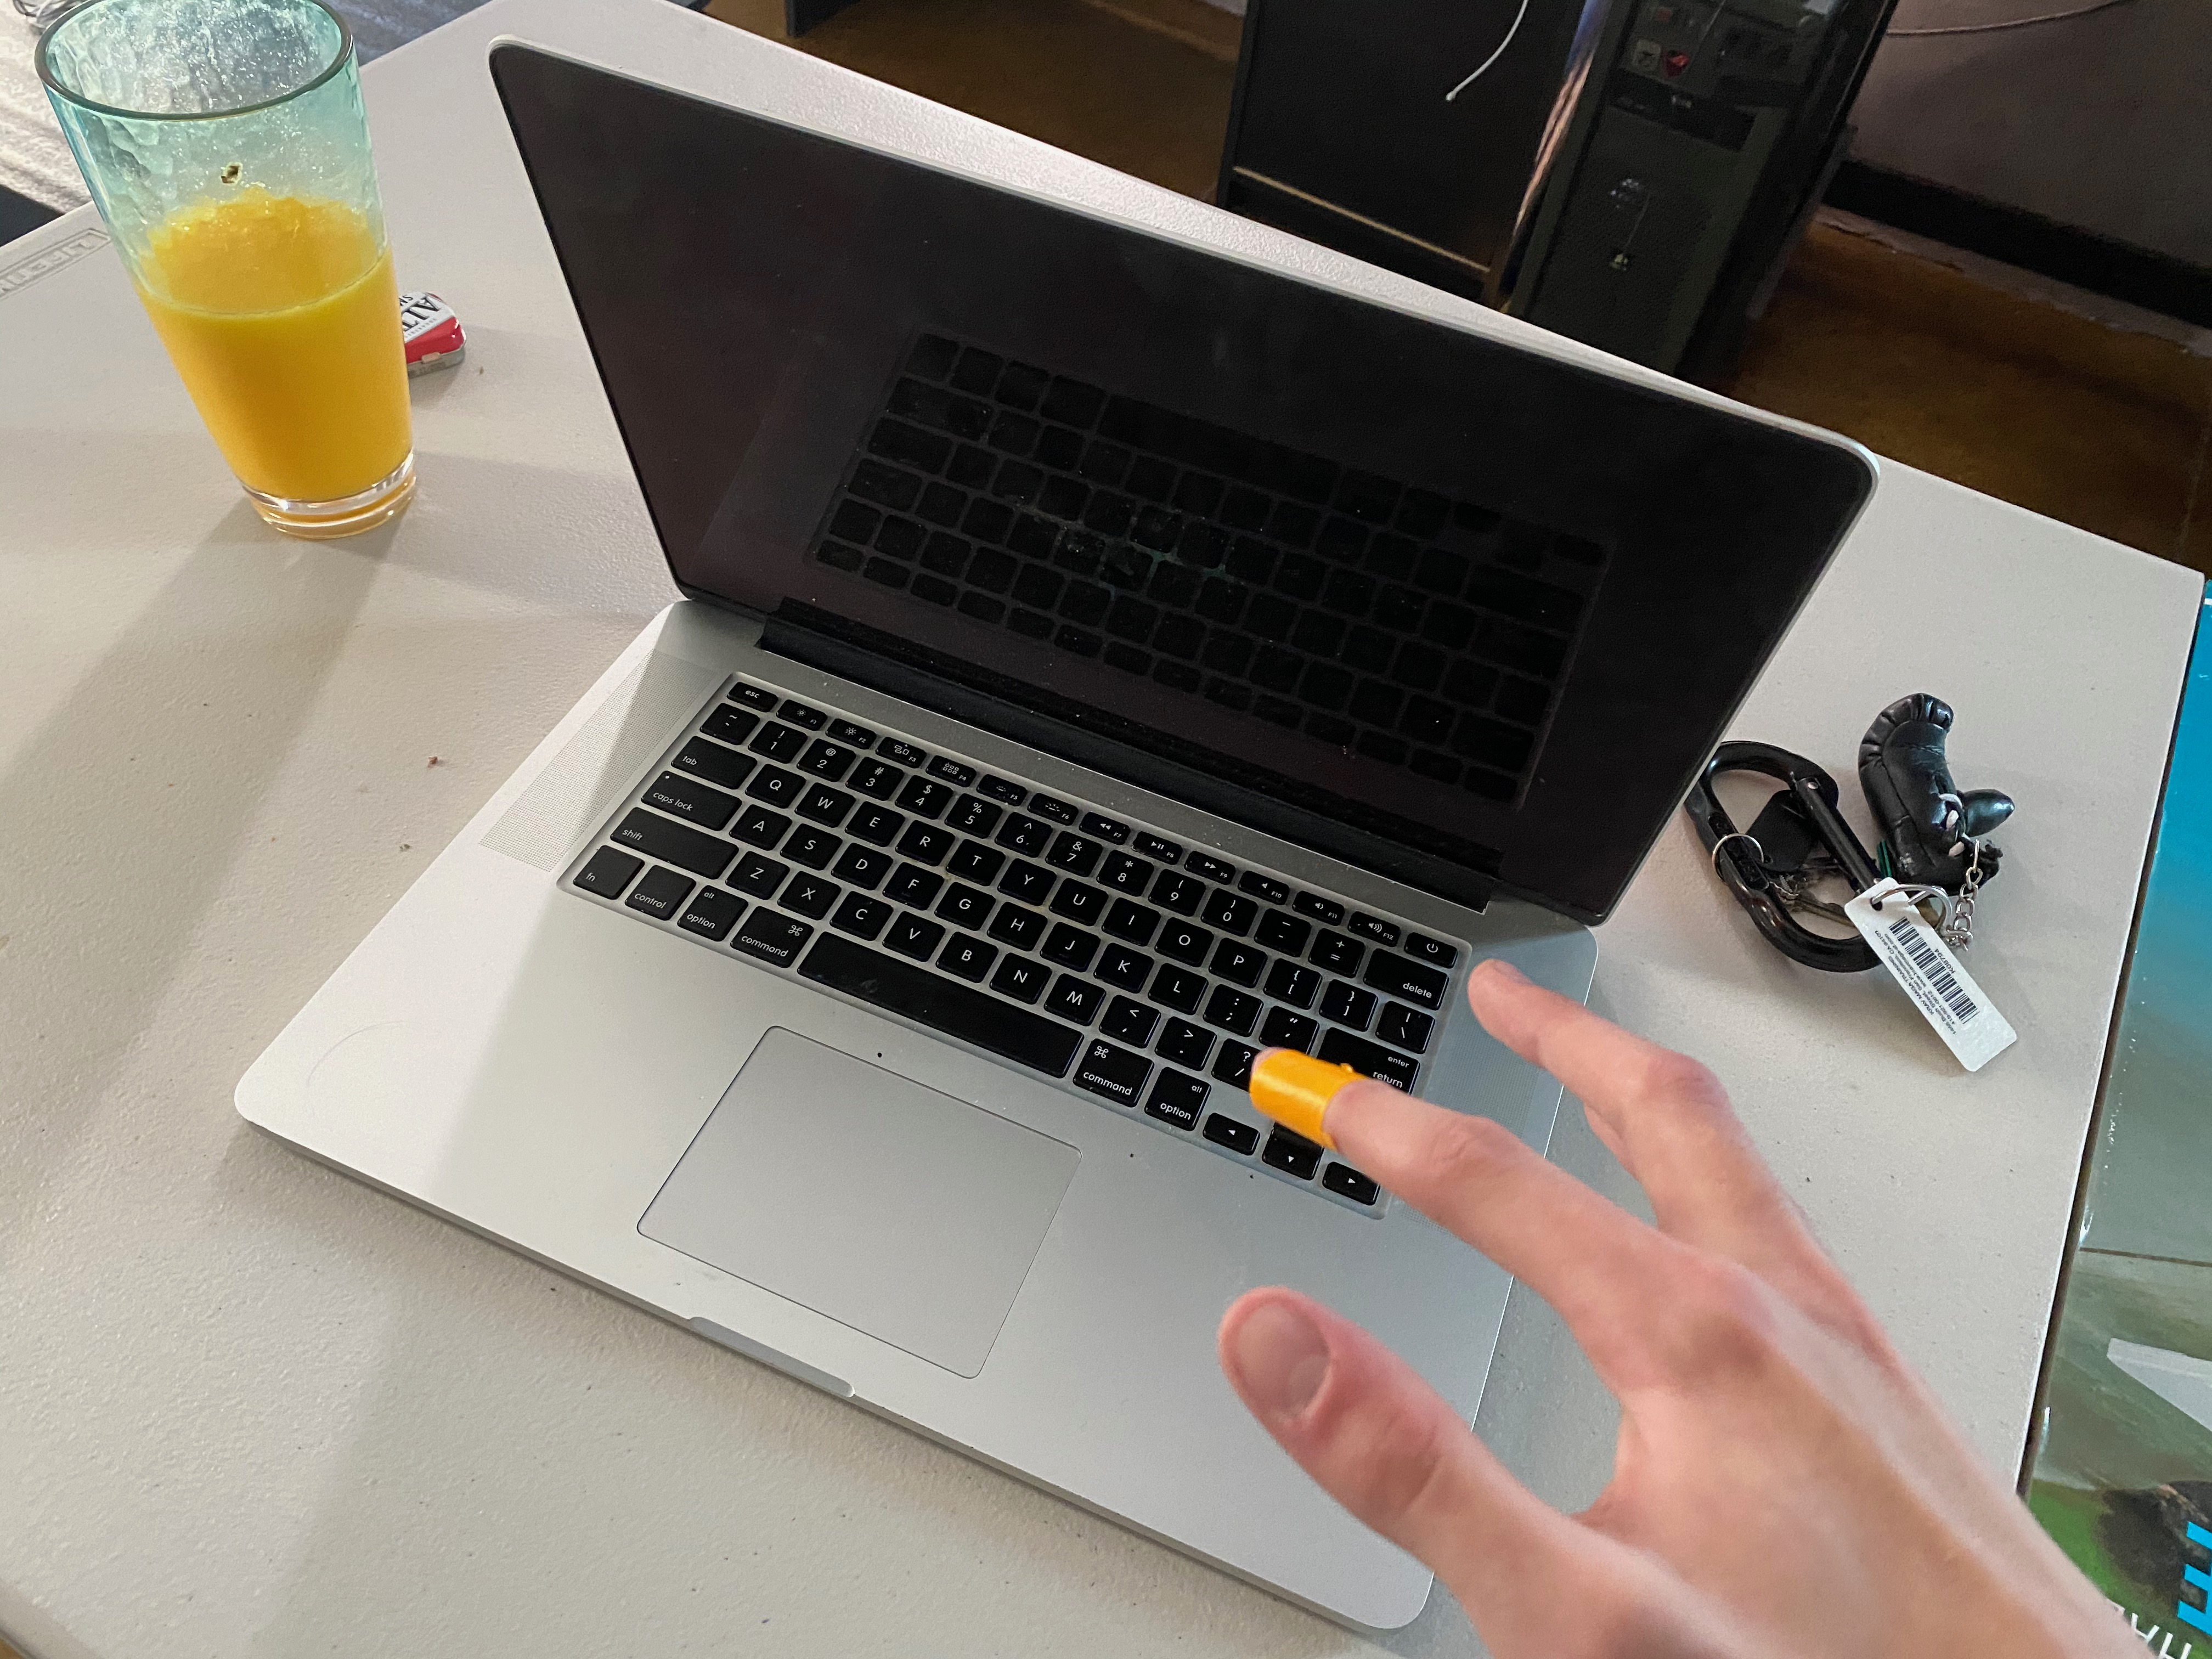fingertip: (1238, 1040, 1390, 1171)
